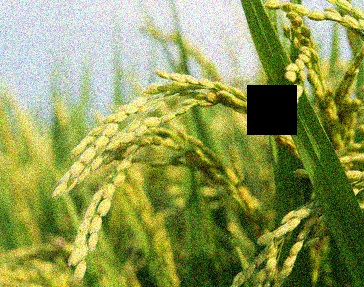rice: (47, 56, 294, 278)
